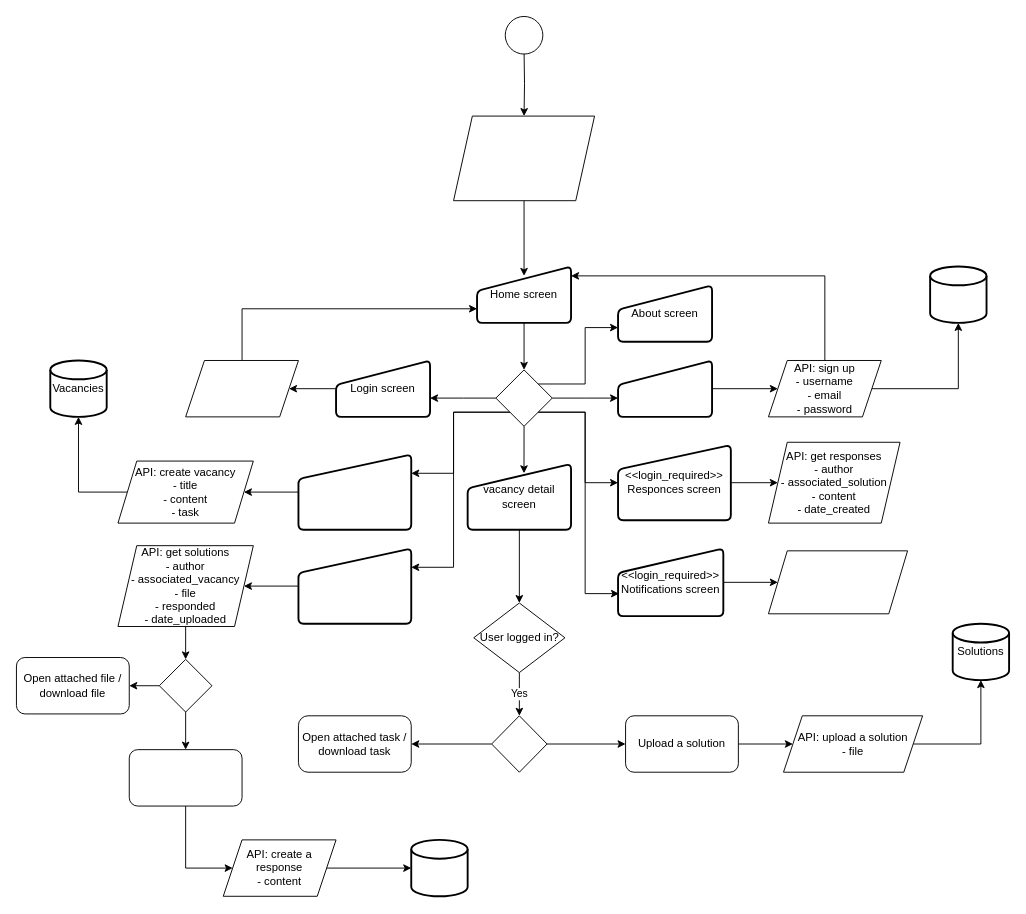
Image size: 1026x914. Some labels were removed from this diagram. Each missing label, with the centre of its shape:
"<<login_required>> New vacancy screen" belongs at pixel 354 491.
"<<login_required>> Received solutions screen" belongs at pixel 354 585.
"API: get notifications - title - content - date_created" belongs at pixel 838 582.
"API: get vacancies - title - content - author - date_posted - task" belongs at pixel 524 158.
"API: login - email - password" belongs at pixel 241 388.
"Respond" belongs at pixel 185 777.
"Responses" belongs at pixel 439 867.
"Sign Up screen" belongs at pixel 665 388.
"users" belongs at pixel 958 294.
